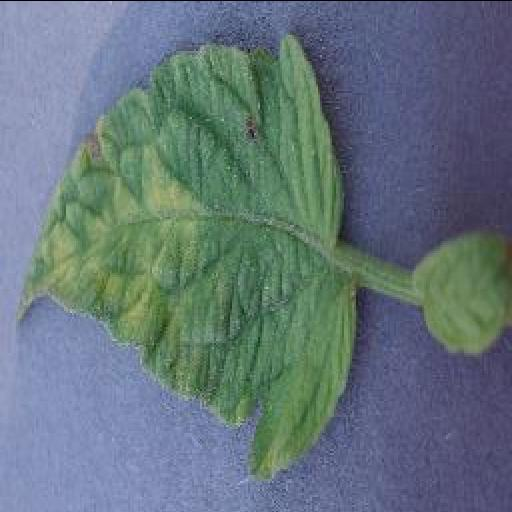disease_tomato: (18, 28, 358, 484)
